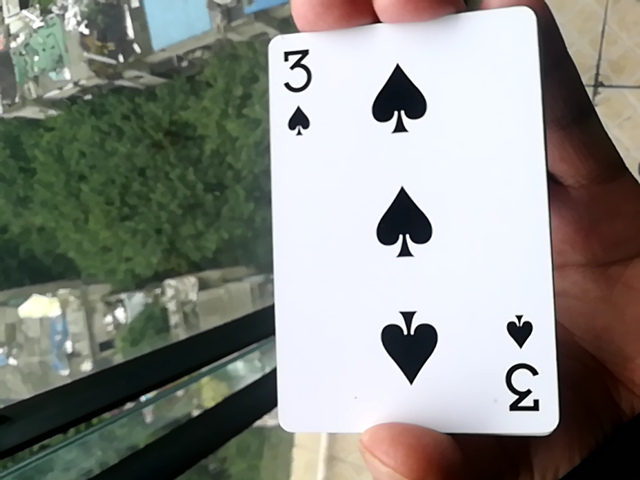ht 3: (246, 28, 564, 443)
